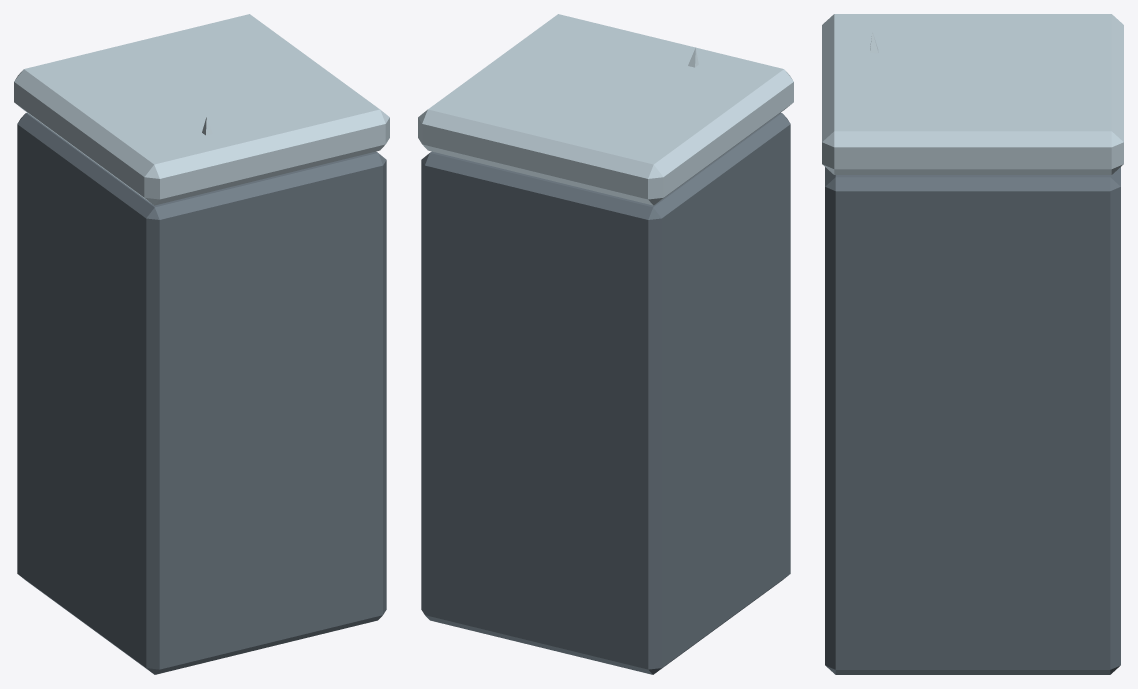
File: column-rime-1.glb
The picture shows the model from 3 angles, left to right: view 1: azimuth 30°, elevation 25°; view 2: azimuth 150°, elevation 25°; view 3: azimuth 270°, elevation 25°; orthographic projection. The views are drawn at different scales.
Parts seen in each view (by area): view 1: column-rime-1; view 2: column-rime-1; view 3: column-rime-1.
Part boxes in pixels (bbox=[...]): column-rime-1: bbox=[14, 14, 389, 674]; column-rime-1: bbox=[418, 14, 793, 674]; column-rime-1: bbox=[822, 14, 1123, 674].
Bounding box in the file's own units: 1 × 2.06 × 1.
